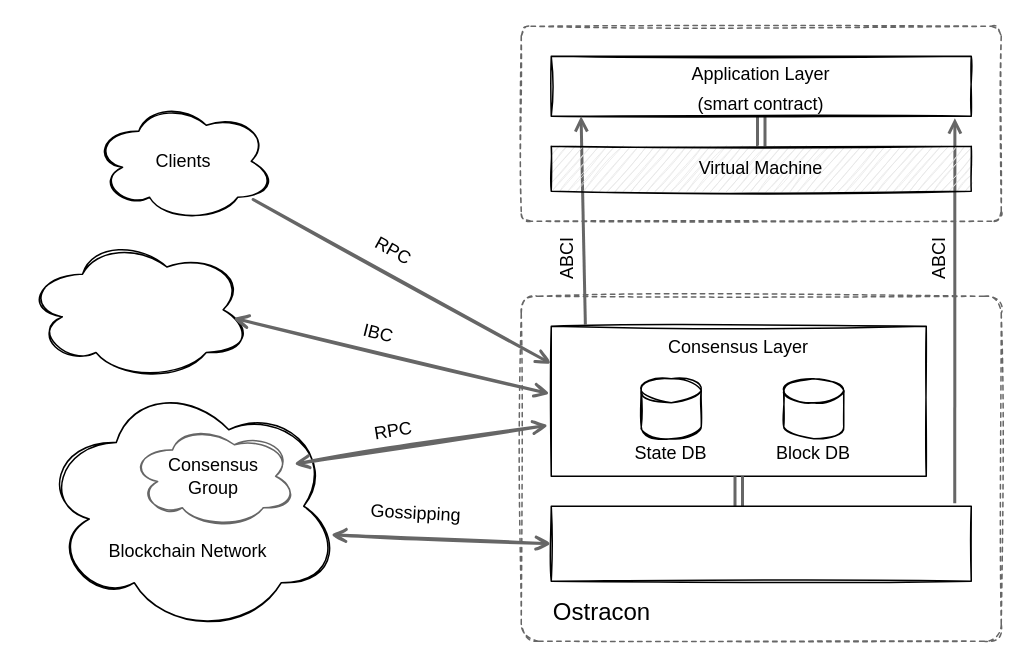
Image size: 1028x668. Some labels were removed from this diagram. The shapes that lost their labels are listed below. From the top down, each one's centre as x and y in pixels, then its label:
the point at 138,309: Cosmos or Other Tendermint-based Blockchain
the point at 760,543: Networking Layer (mempool)
